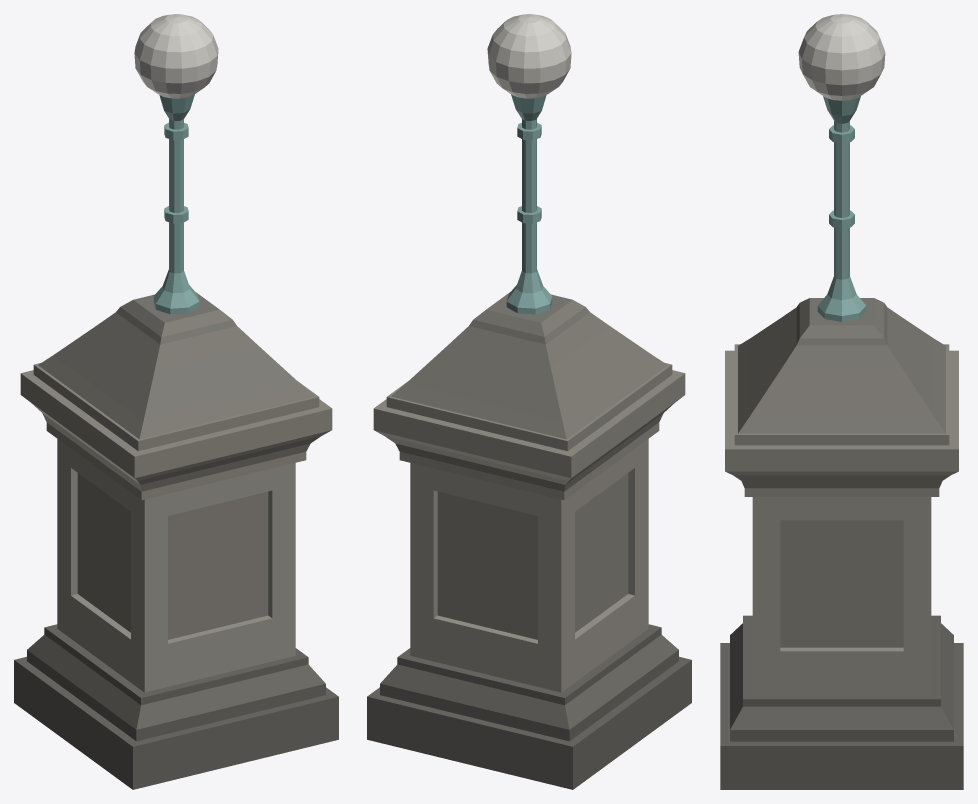
The model's file is bridge-pylon.glb.
The picture shows the model from 3 angles, left to right: view 1: azimuth 30°, elevation 25°; view 2: azimuth 150°, elevation 25°; view 3: azimuth 270°, elevation 25°; orthographic projection. The views are drawn at different scales.
Parts seen in each view (by area): view 1: base; view 2: base; view 3: base.
Boxes of the visible parts, left/top/right/bottom form: base: left=14, top=14, right=338, bottom=789; base: left=367, top=14, right=691, bottom=789; base: left=720, top=14, right=963, bottom=789.
Bounding box in the file's own units: 1.5 × 4.9 × 1.5.
